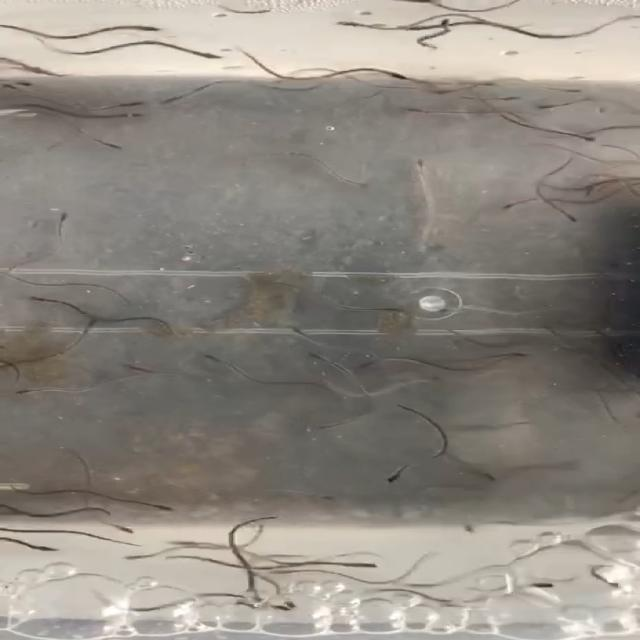active_glass_eel: (172, 42, 222, 61), (331, 176, 376, 192), (124, 20, 170, 35), (552, 130, 598, 145), (534, 97, 574, 114), (412, 158, 441, 181), (105, 109, 156, 122), (0, 74, 46, 88), (384, 468, 418, 486), (92, 134, 124, 153), (20, 541, 63, 555), (311, 18, 371, 28), (543, 84, 597, 95), (105, 98, 142, 114), (278, 587, 306, 608), (156, 89, 190, 106), (522, 579, 566, 592), (488, 91, 528, 105), (256, 601, 299, 614), (381, 68, 417, 83), (3, 387, 57, 397), (118, 550, 156, 564), (393, 104, 444, 114), (48, 212, 76, 230), (340, 559, 381, 571), (361, 354, 396, 368), (280, 325, 312, 340), (194, 353, 226, 368), (493, 201, 526, 215), (20, 292, 53, 306), (122, 362, 156, 375), (472, 470, 505, 483), (440, 306, 476, 317), (302, 350, 328, 365), (106, 522, 138, 534), (245, 585, 261, 609), (496, 348, 534, 358), (140, 501, 178, 511), (434, 16, 455, 34), (82, 316, 103, 334), (576, 184, 598, 200), (561, 215, 586, 229), (377, 305, 411, 315)
